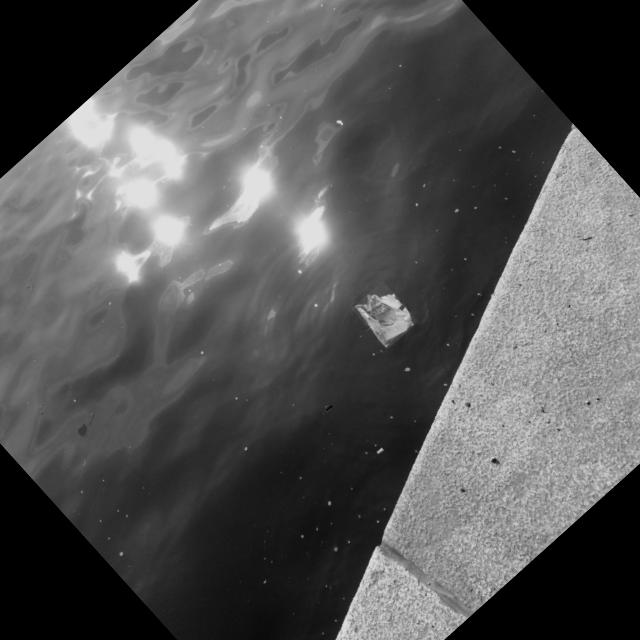Other plastic bottle: (377, 448, 383, 453)
Plastic film: (355, 292, 414, 348)
Unlabeled litter: (327, 405, 331, 410), (325, 404, 326, 405)
